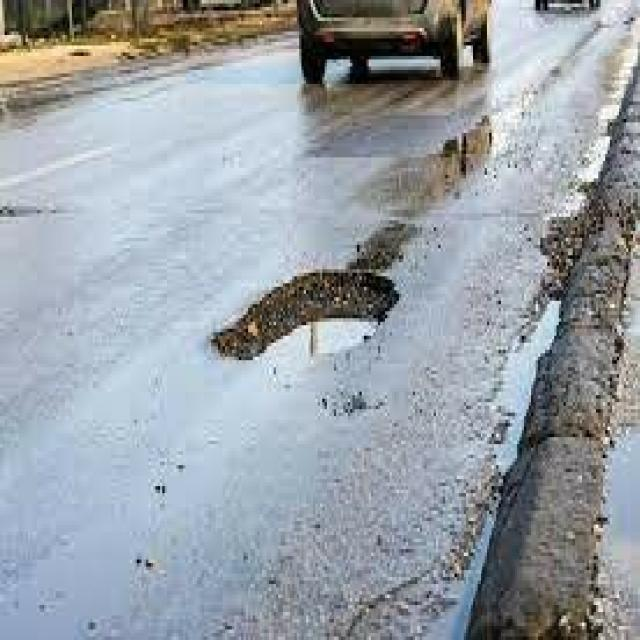pothole: (202, 238, 450, 473)
